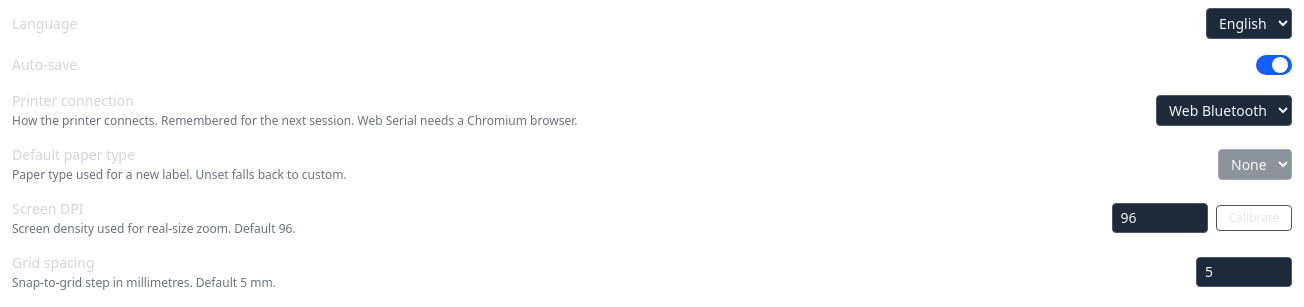
GeneralSection screen DPI › does not clamp while typing; blur commits the clamped value once
// Clearing the field leaves the committed value untouched.
Clear the number field labelled "Screen DPI" at [1160, 218], box 1112,203 -> 1208,233
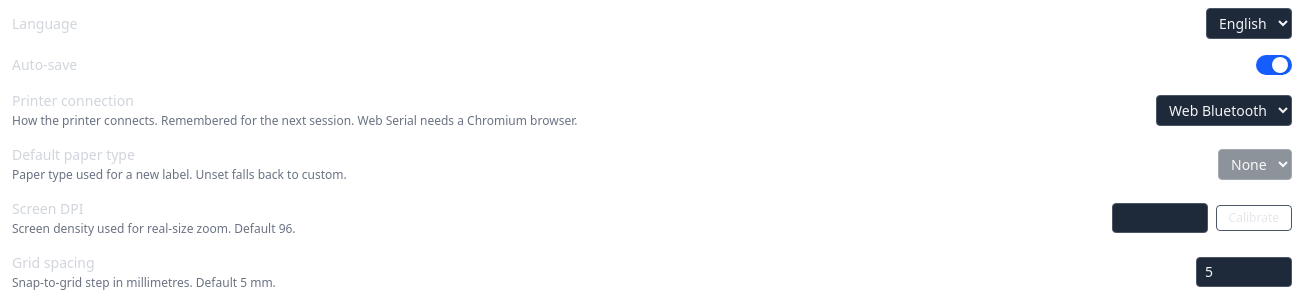
// An out-of-range draft is still not committed on change.
Type "9" into the number field labelled "Screen DPI" at [1160, 218], box 1112,203 -> 1208,233
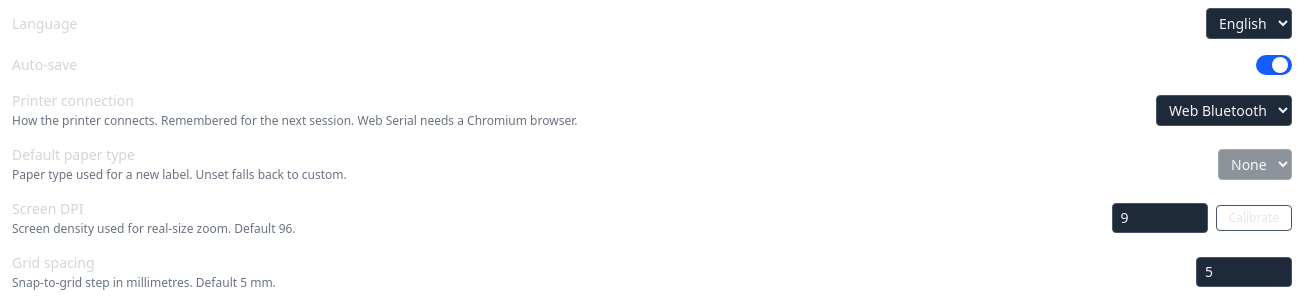
Leave the number field labelled "Screen DPI", box 1112,203 -> 1208,233
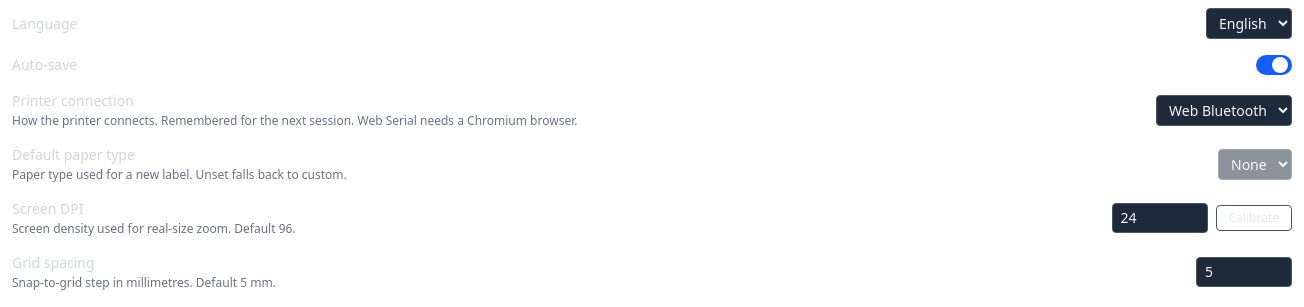
Now the number field labelled "Screen DPI" holds "24", box 1112,203 -> 1208,233
